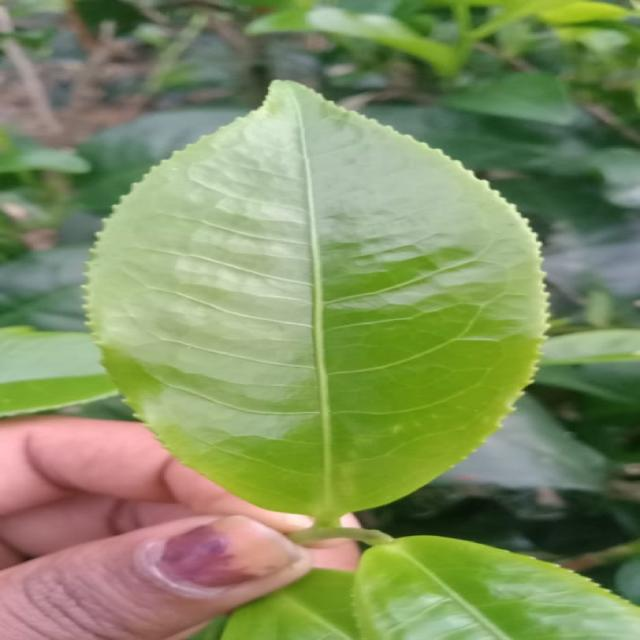Category B 2-4 days: (84, 67, 556, 533)
